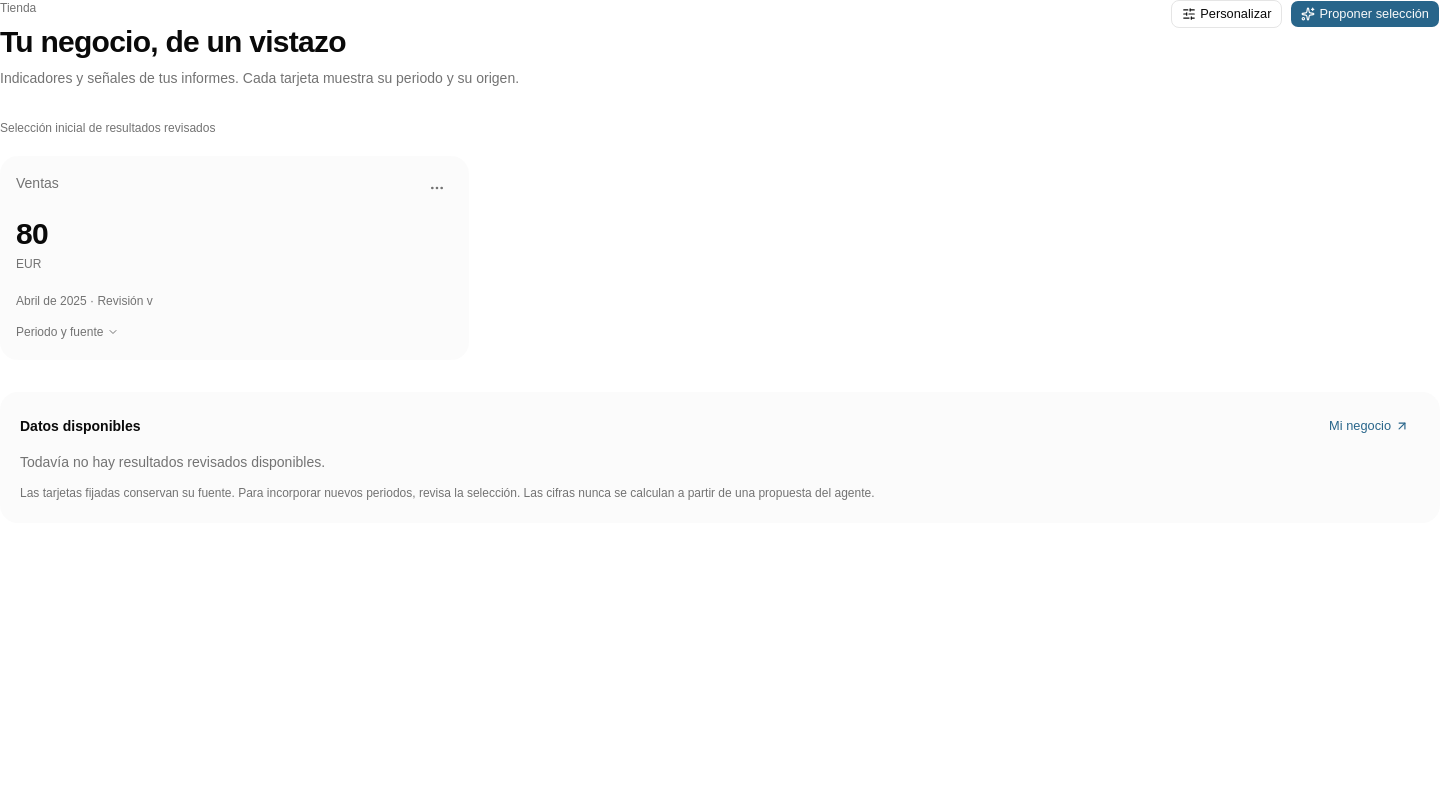
Test: opens the shared editor from a card menu without losing the dialog on menu close
Step 1. Click the button named "Opciones de Ventas" → coordinates (437, 188), box [421,172,453,204]
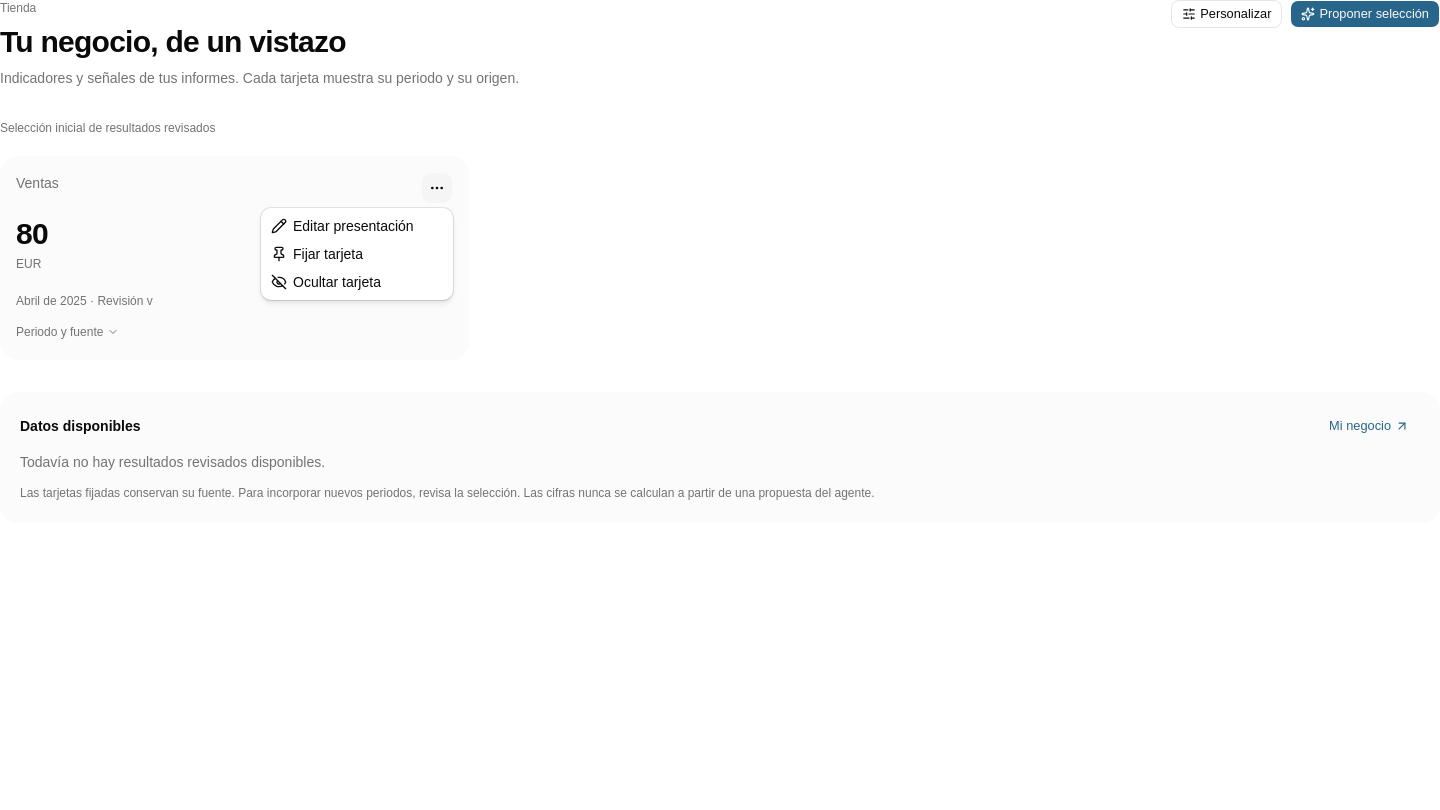
Step 2. Click the menu item "Editar presentación" → coordinates (342, 226), box [271,218,414,234]
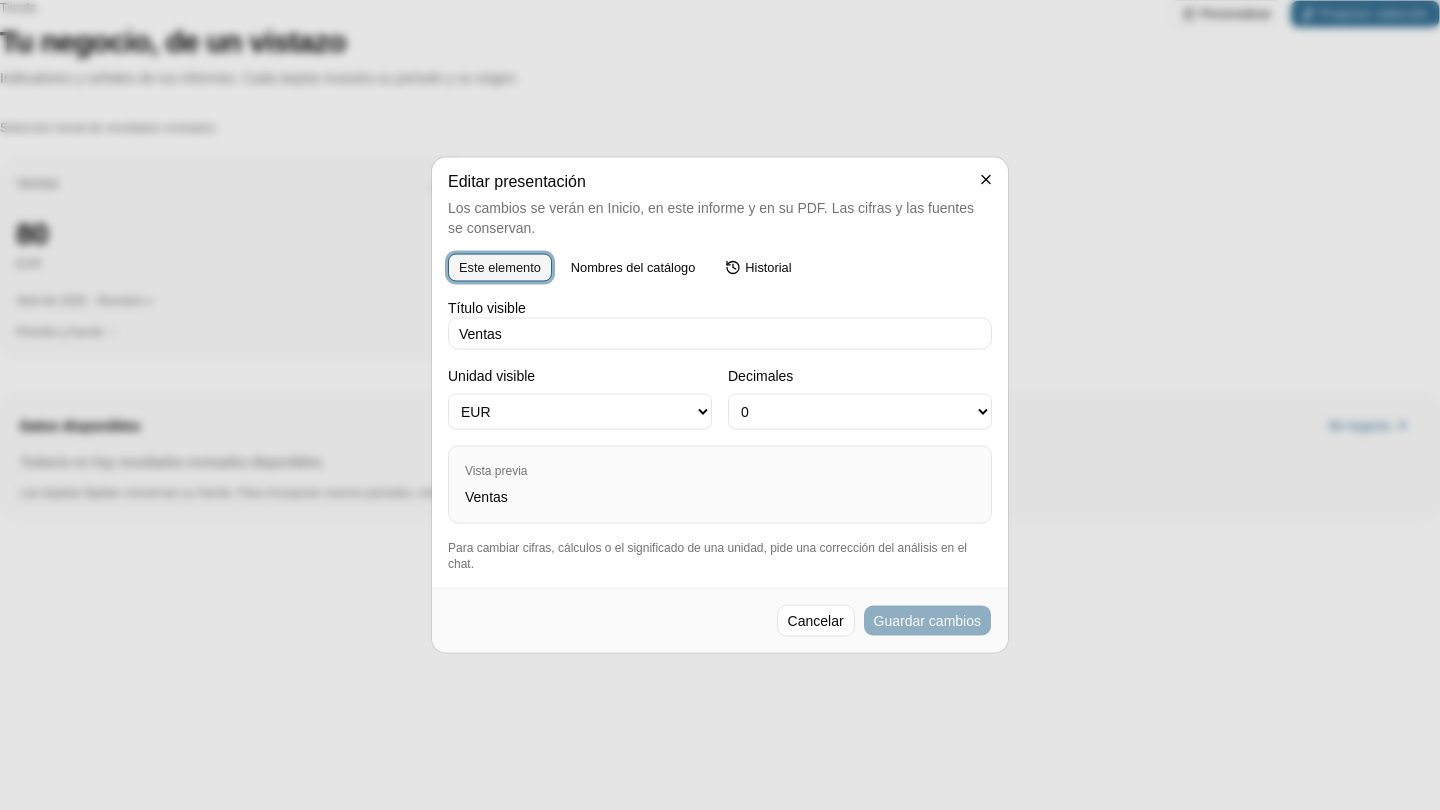
expect the dialog is shown: met, box [432,158,1008,652]
expect the field labelled "Título visible" holds "Ventas": met, box [448,318,992,350]
expect the menu is gone: met
